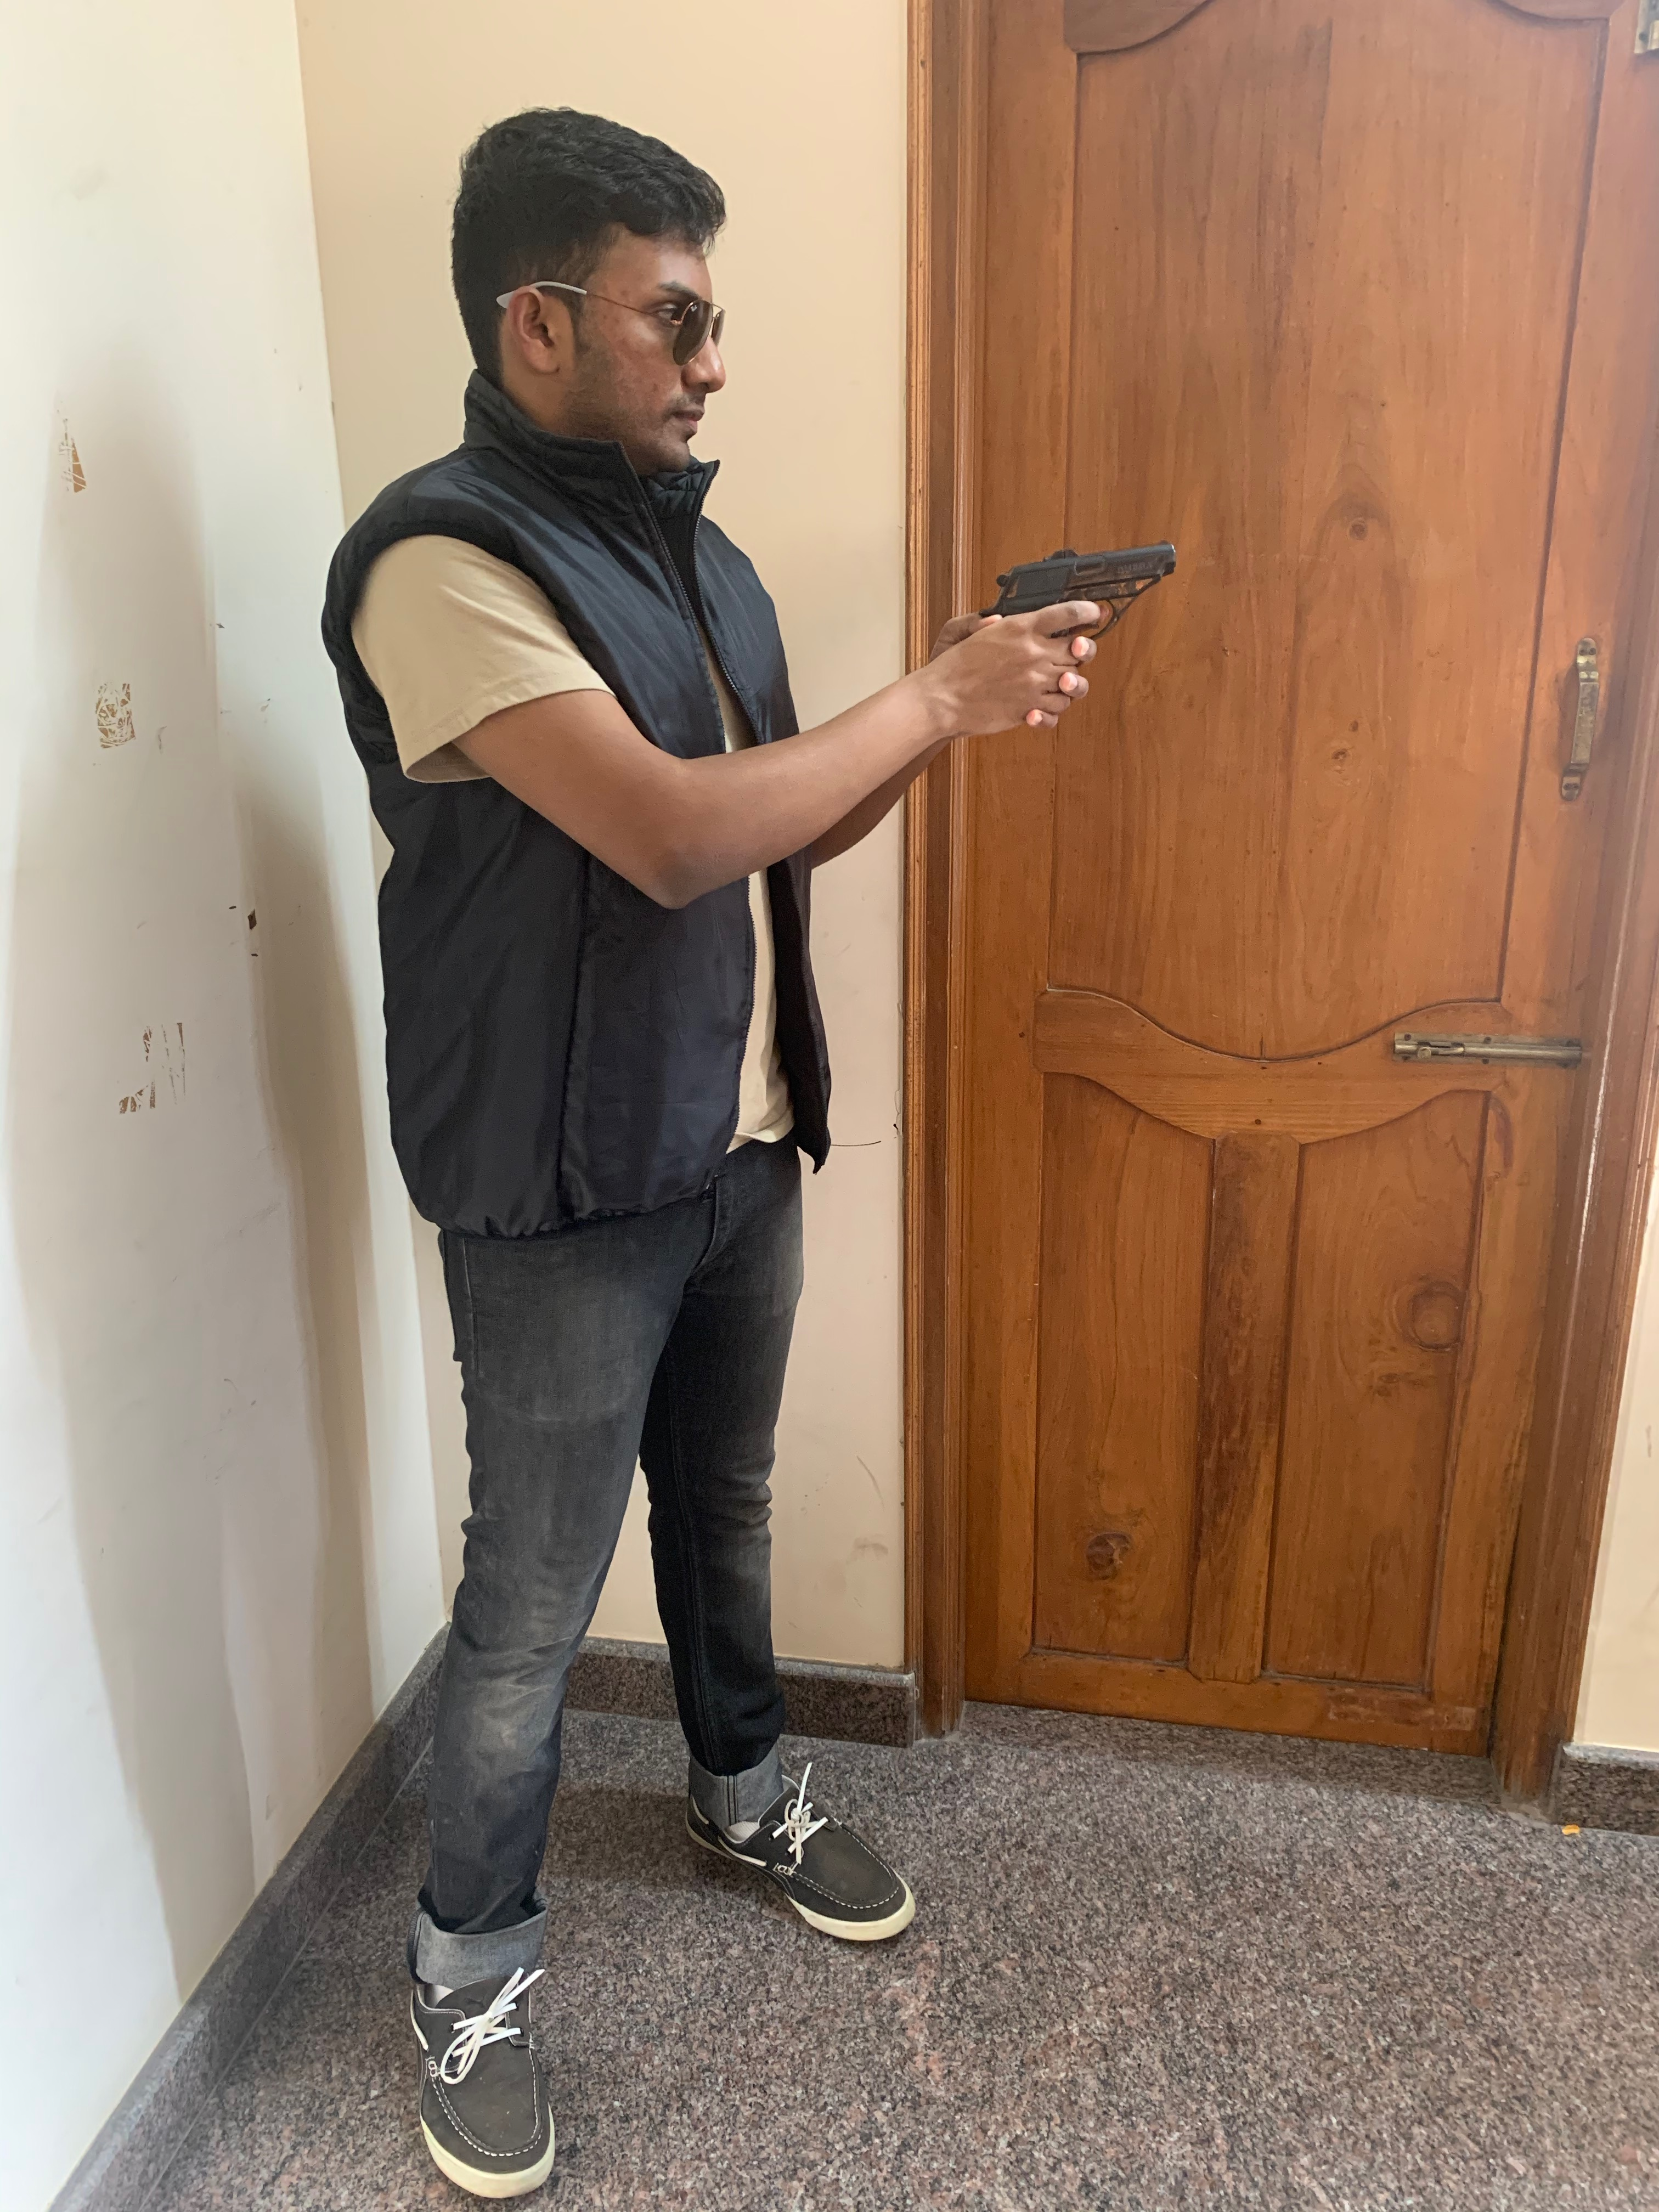gun: (985, 540, 1182, 672)
